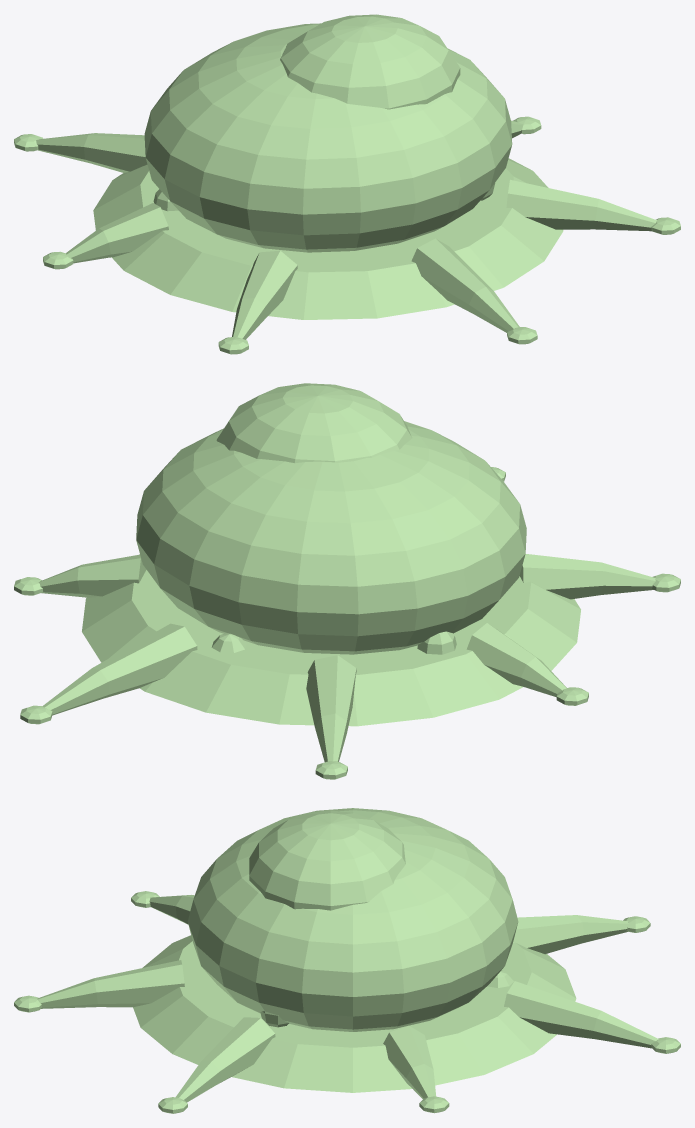
Rendered from slimeling.glb.
3 views of the same model, one above another, from view 1: azimuth 30°, elevation 25°; view 2: azimuth 150°, elevation 25°; view 3: azimuth 270°, elevation 25° (orthographic). The views are drawn at different scales.
Parts seen in each view (by area): view 1: slimeling_body; view 2: slimeling_body; view 3: slimeling_body.
Boxes of the visible parts, left/top/right/bottom form: slimeling_body: left=14, top=14, right=680, bottom=354; slimeling_body: left=14, top=383, right=680, bottom=779; slimeling_body: left=14, top=808, right=680, bottom=1113.
Bounding box in the file's own units: 1.32 × 0.5 × 1.55.
